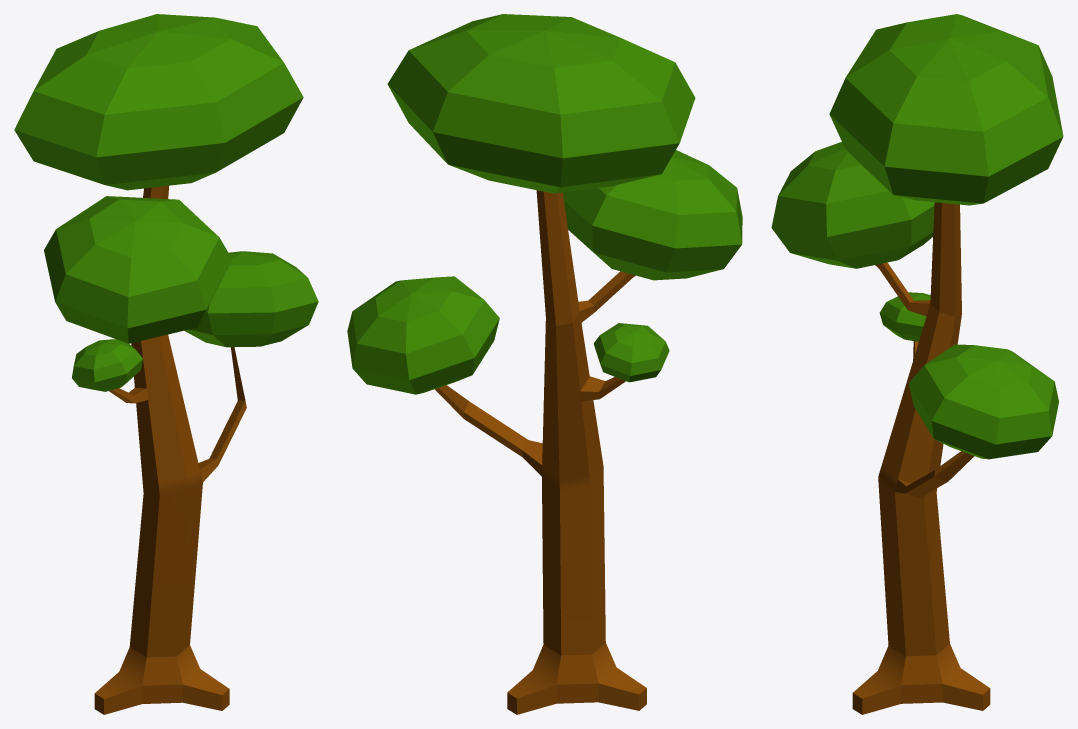
The model's file is FIL_ZenGarden_NormalTree_01.fbx.
3 renders of one model, left to right at view 1: azimuth 30°, elevation 25°; view 2: azimuth 150°, elevation 25°; view 3: azimuth 270°, elevation 25°, orthographic. The views are drawn at different scales.
Visible parts, largest first — view 1: pSphere13; view 2: pSphere13; view 3: pSphere13.
Boxes of the visible parts, x1,y1,x2,y2 form: pSphere13: (14, 14, 318, 714); pSphere13: (347, 14, 742, 714); pSphere13: (771, 14, 1063, 714).
Size of the model in its own units: 8.96 by 17.59 by 7.03.
